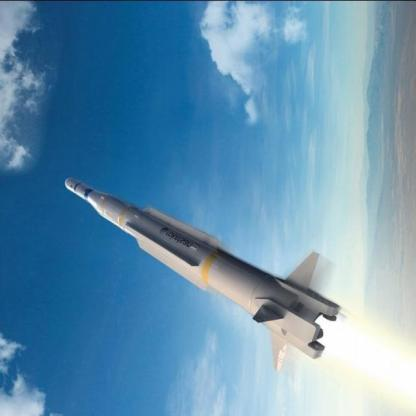MIL_TBM: (56, 172, 282, 325)
